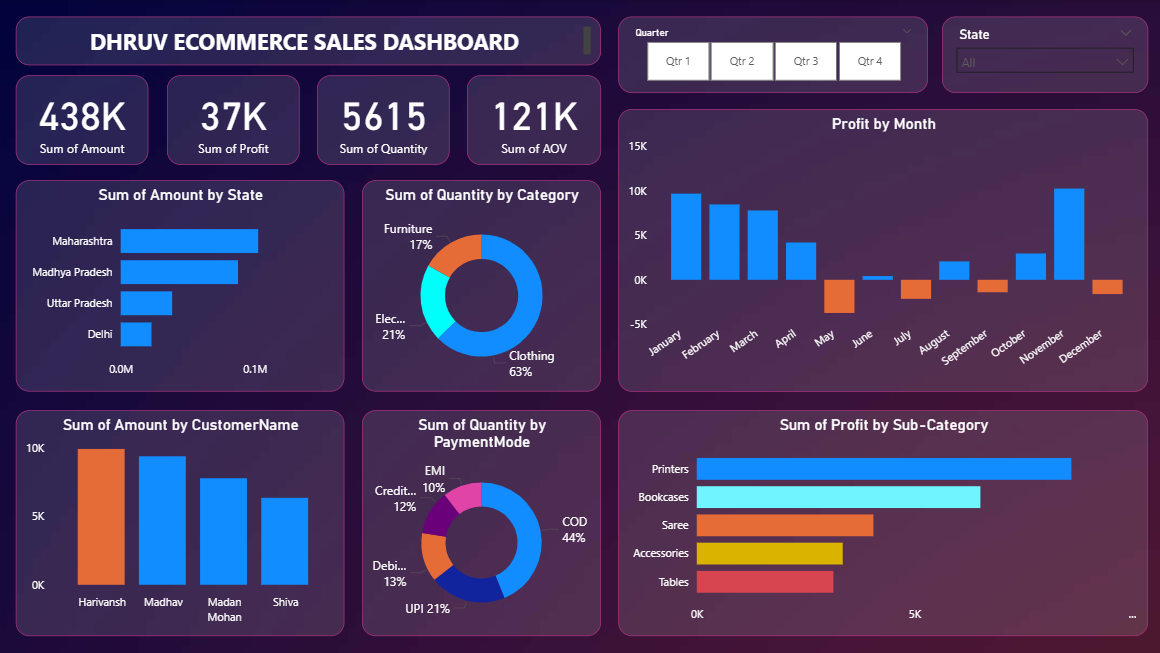

This screenshot's page, from the dashboard's own definition file:
{"tool":"powerbi","page":{"name":"Page 1","canvas":[1280,720],"ordinal":0},"visuals":[{"type":"textbox","box":[20.6,19.2,642.2,53.5],"z":0},{"type":"columnChart","title":"Profit by Month","fields":{"Category":["Orders.Order Date.Variation.Date Hierarchy.Month"],"Y":["Details.Profit"]},"box":[682,120.8,581.8,310.1],"z":1000},{"type":"barChart","fields":{"Category":["Details.Sub-Category"],"Y":["Details.Profit"]},"box":[682,451.5,581.8,248.4],"z":2000},{"type":"donutChart","fields":{"Category":["Details.Category"],"Y":["Details.Quantity"]},"box":[400.7,199,262.1,231.9],"z":3000},{"type":"donutChart","fields":{"Y":["Details.Quantity"],"Category":["Details.PaymentMode"]},"box":[400.7,451.5,262.1,248.4],"z":4000},{"type":"card","fields":{"Values":["Details.Amount"]},"box":[20.6,83.7,145.5,98.8],"z":5000},{"type":"card","fields":{"Values":["Details.Profit"]},"box":[186.6,83.7,145.5,98.8],"z":6000},{"type":"card","fields":{"Values":["Details.Quantity"]},"box":[351.3,83.7,145.5,98.8],"z":7000},{"type":"card","fields":{"Values":["Details.AOV"]},"box":[516,83.7,146.8,98.8],"z":8000},{"type":"barChart","fields":{"Category":["Orders.State"],"Y":["Details.Amount"]},"box":[20.6,199,360.9,231.9],"z":9000},{"type":"columnChart","fields":{"Category":["Orders.CustomerName"],"Y":["Details.Amount"]},"box":[20.6,451.5,360.9,248.4],"z":10000},{"type":"slicer","fields":{"Values":["Orders.Order Date.Variation.Date Hierarchy.Quarter"]},"box":[682,19.2,340.3,83.7],"z":11000},{"type":"slicer","fields":{"Values":["Orders.State"]},"box":[1037.4,19.2,226.4,83.7],"z":12000}]}

Visuals, with their boxes in screenshot pixels (x1, y1, x2, y2), scaled from the page's 1280x720 canvas onto the 1160x653 screenshot:
textbox: rect(19, 17, 601, 66)
"Profit by Month" columnChart: rect(618, 110, 1145, 391)
barChart - Details.Sub-Category x Details.Profit: rect(618, 409, 1145, 635)
donutChart - Details.Category x Details.Quantity: rect(363, 180, 601, 391)
donutChart - Details.Quantity x Details.PaymentMode: rect(363, 409, 601, 635)
card - Details.Amount: rect(19, 76, 151, 166)
card - Details.Profit: rect(169, 76, 301, 166)
card - Details.Quantity: rect(318, 76, 450, 166)
card - Details.AOV: rect(468, 76, 601, 166)
barChart - Orders.State x Details.Amount: rect(19, 180, 346, 391)
columnChart - Orders.CustomerName x Details.Amount: rect(19, 409, 346, 635)
slicer - Orders.Order Date.Variation.Date Hierarchy.Quarter: rect(618, 17, 926, 93)
slicer - Orders.State: rect(940, 17, 1145, 93)
